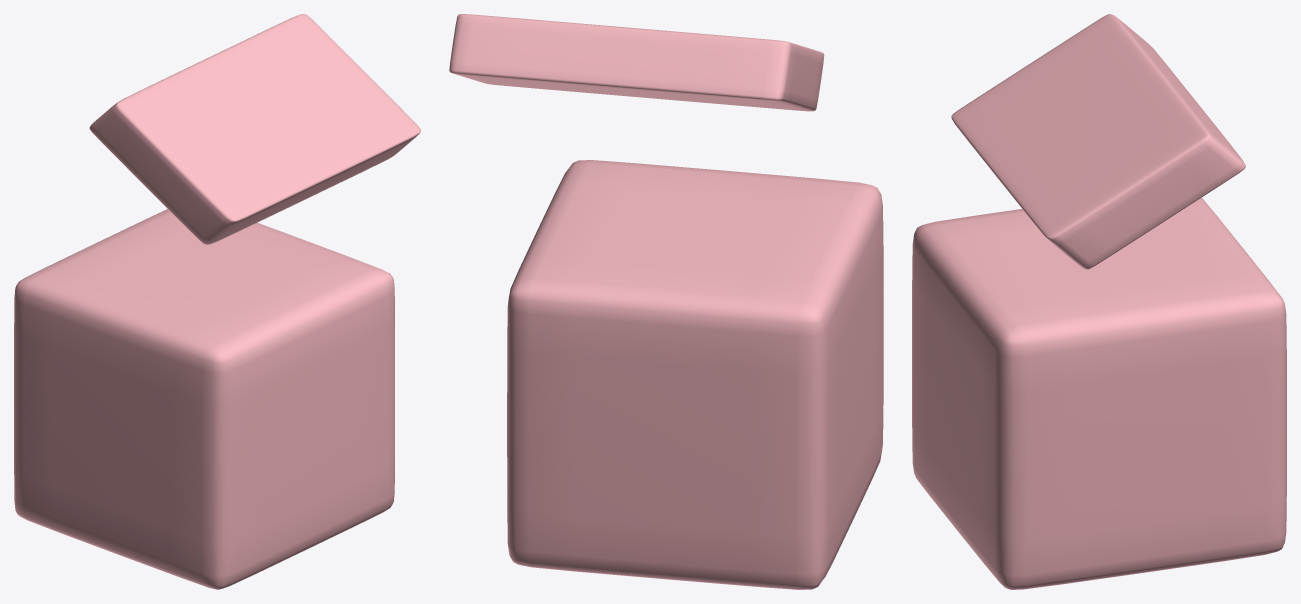
Rendered from PROP_Slide_v1.glb.
3 views of the same model, side by side, from view 1: azimuth 30°, elevation 25°; view 2: azimuth 150°, elevation 25°; view 3: azimuth 270°, elevation 25° (orthographic). The views are drawn at different scales.
Parts seen in each view (by area): view 1: PROP_Slide_v1; view 2: PROP_Slide_v1; view 3: PROP_Slide_v1.
Boxes of the visible parts, <box> form: PROP_Slide_v1: <box>14,14,420,589</box>; PROP_Slide_v1: <box>449,14,883,589</box>; PROP_Slide_v1: <box>912,14,1286,589</box>.
Bounding box in the file's own units: 1.46 × 1.74 × 1.28.
